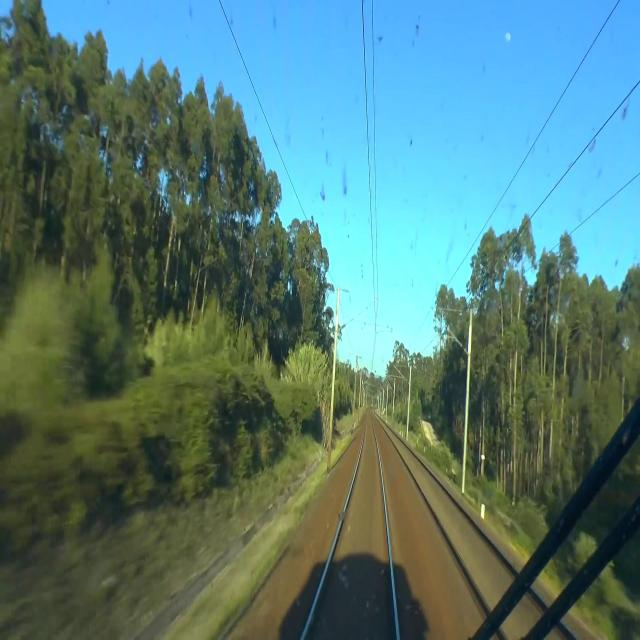rail-track: (393, 437, 569, 639), (305, 419, 395, 639)
